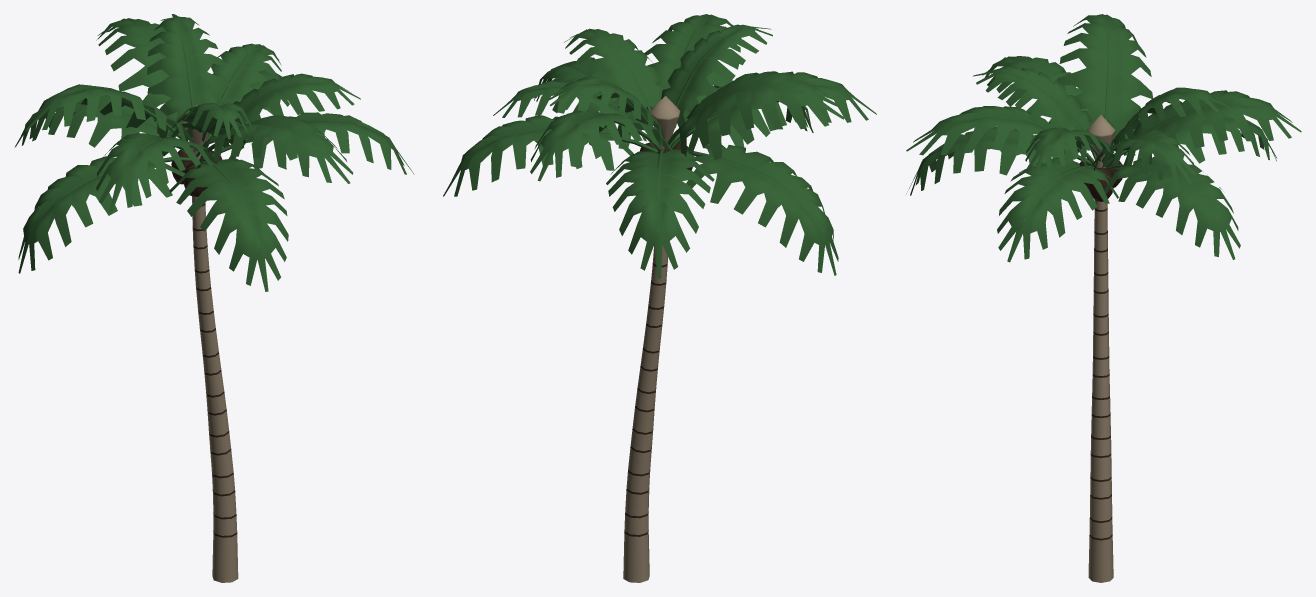
The model's file is palmera_1.fbx.
3 views of the same model, side by side, from view 1: azimuth 30°, elevation 25°; view 2: azimuth 150°, elevation 25°; view 3: azimuth 270°, elevation 25° (orthographic). The views are drawn at different scales.
Visible parts, largest first — view 1: Palmera_1; view 2: Palmera_1; view 3: Palmera_1.
Boxes of the visible parts, x1,y1,x2,y2 form: Palmera_1: [14, 14, 414, 582]; Palmera_1: [443, 14, 876, 582]; Palmera_1: [906, 14, 1301, 582].
Bounding box in the file's own units: 3.66 × 5.34 × 3.91.
